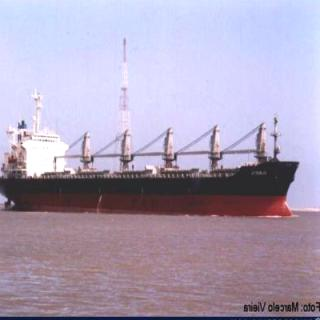Bulk Carrier: (0, 104, 303, 201)
